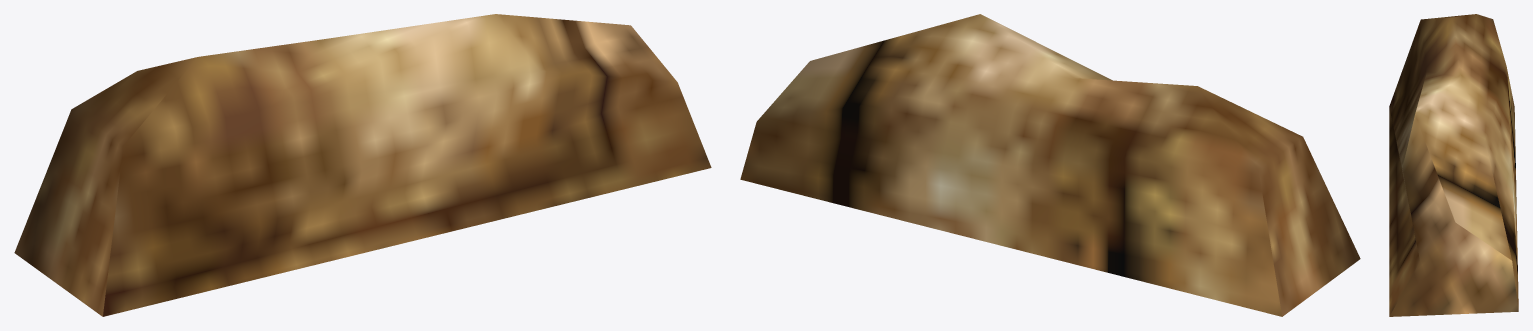
Rendered from b_general_obj_16.glb.
3 renders of one model, left to right at view 1: azimuth 30°, elevation 25°; view 2: azimuth 150°, elevation 25°; view 3: azimuth 270°, elevation 25°, orthographic. The views are drawn at different scales.
Visible parts, largest first — view 1: Object03; view 2: Object03; view 3: Object03.
Boxes of the visible parts, x1,y1,x2,y2 form: Object03: (14,14,711,316); Object03: (740,14,1360,316); Object03: (1389,14,1518,316).
Size of the model in its own units: 1.81 by 0.5534 by 0.4715.
Materials: 1 (1 with a texture image).
